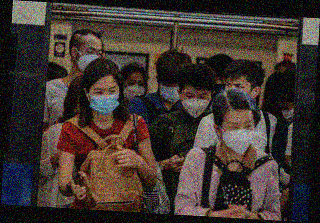with_mask: (222, 115, 257, 159), (88, 83, 120, 117), (180, 90, 210, 121), (76, 43, 104, 73), (121, 77, 147, 102), (159, 83, 181, 103), (279, 103, 294, 124)
